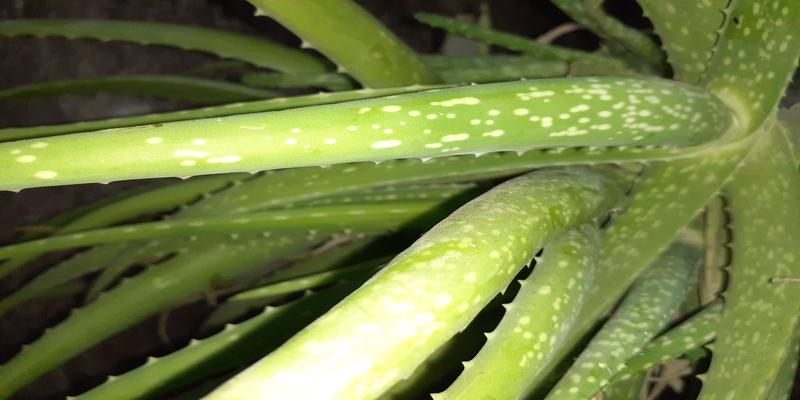Aloevera: (190, 53, 800, 373)
